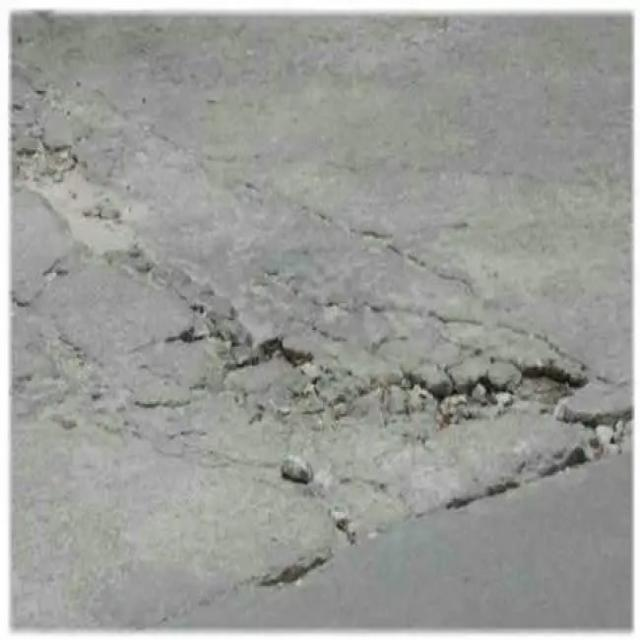Pothole: (163, 282, 635, 603), (18, 134, 144, 260)
